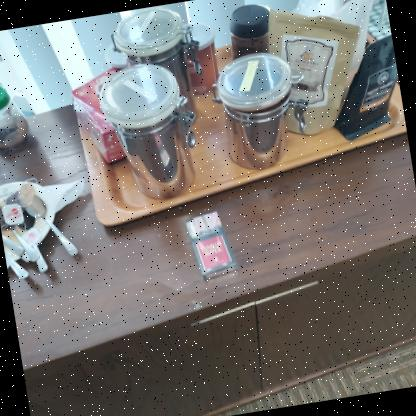bungkus rokok: (168, 197, 253, 290)
